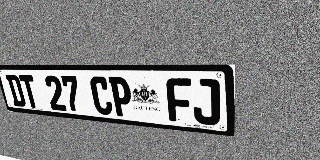2: (44, 75, 67, 111)
7: (60, 76, 83, 113)
C: (89, 76, 114, 116)
D: (5, 75, 27, 107)
F: (166, 78, 193, 123)
J: (192, 78, 220, 126)
P: (108, 77, 134, 117)
T: (18, 75, 41, 108)
